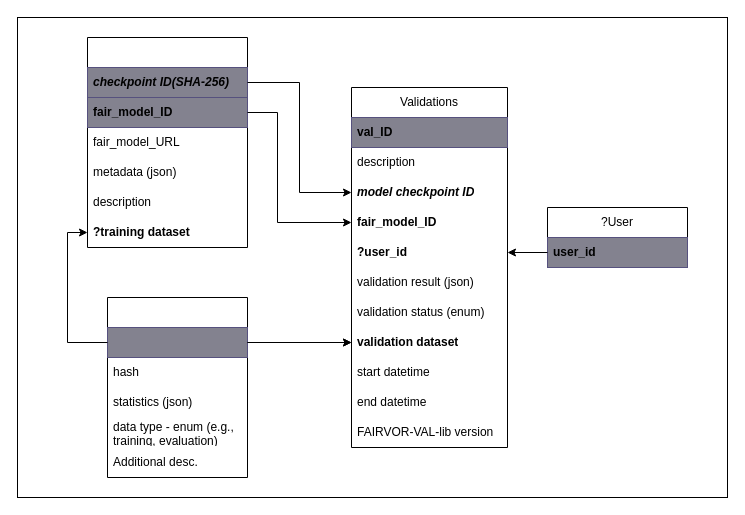
Some shapes in this 745 by 515 pixel diagram are drawn without their labels. Each missing label, with the box of its shape:
Data statistics: (106, 296, 248, 478)
ds_id: (106, 326, 248, 358)
Model checkpoints: (86, 36, 248, 248)
